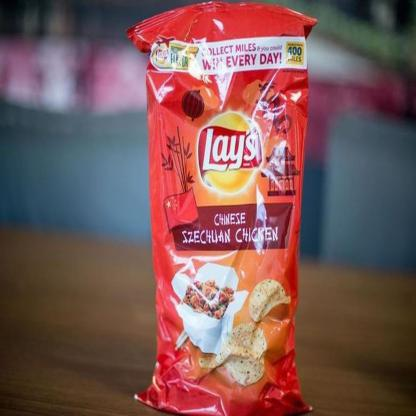potatochip: (121, 0, 319, 416)
